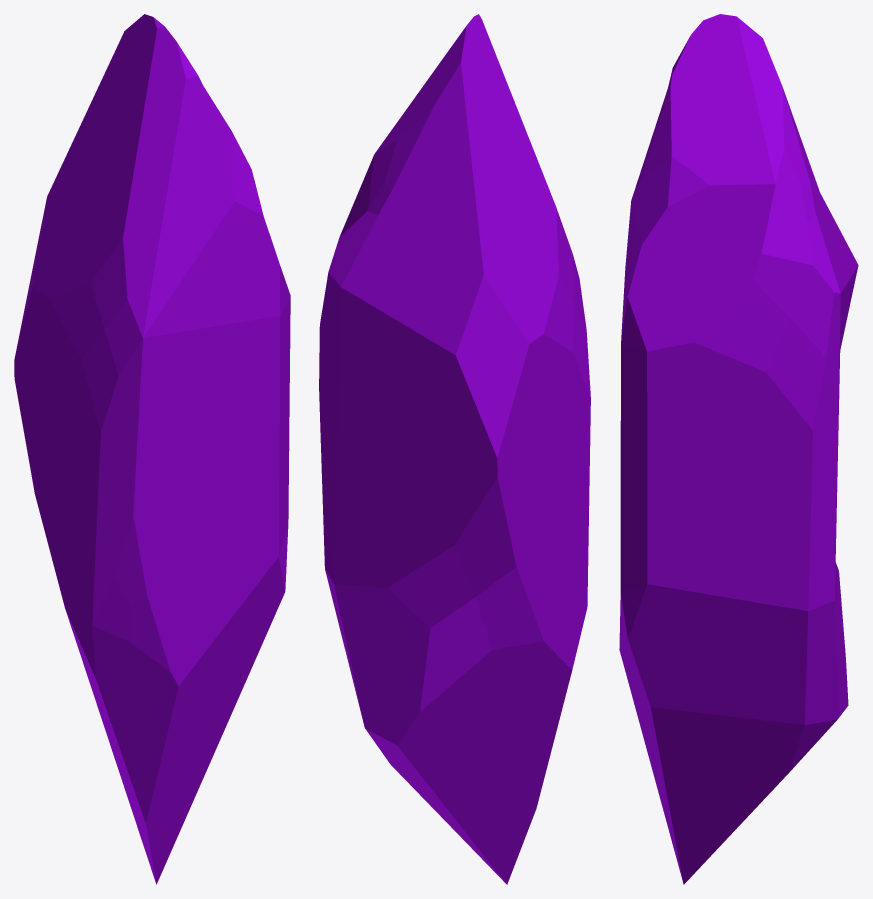
File: kristal_04.fbx
3 renders of one model, left to right at view 1: azimuth 30°, elevation 25°; view 2: azimuth 150°, elevation 25°; view 3: azimuth 270°, elevation 25°, orthographic. The views are drawn at different scales.
Parts seen in each view (by area): view 1: kristal_04; view 2: kristal_04; view 3: kristal_04.
Part boxes in pixels (x1,y1,x2,y2): kristal_04: (14,14,290,884); kristal_04: (319,14,590,884); kristal_04: (619,14,858,884).
Bounding box in the file's own units: 0.2687 × 0.2803 × 1.14.
